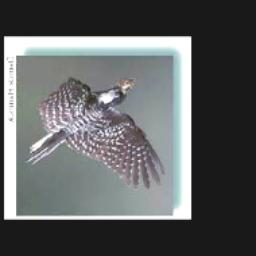Woodpecker: (28, 72, 171, 194)
